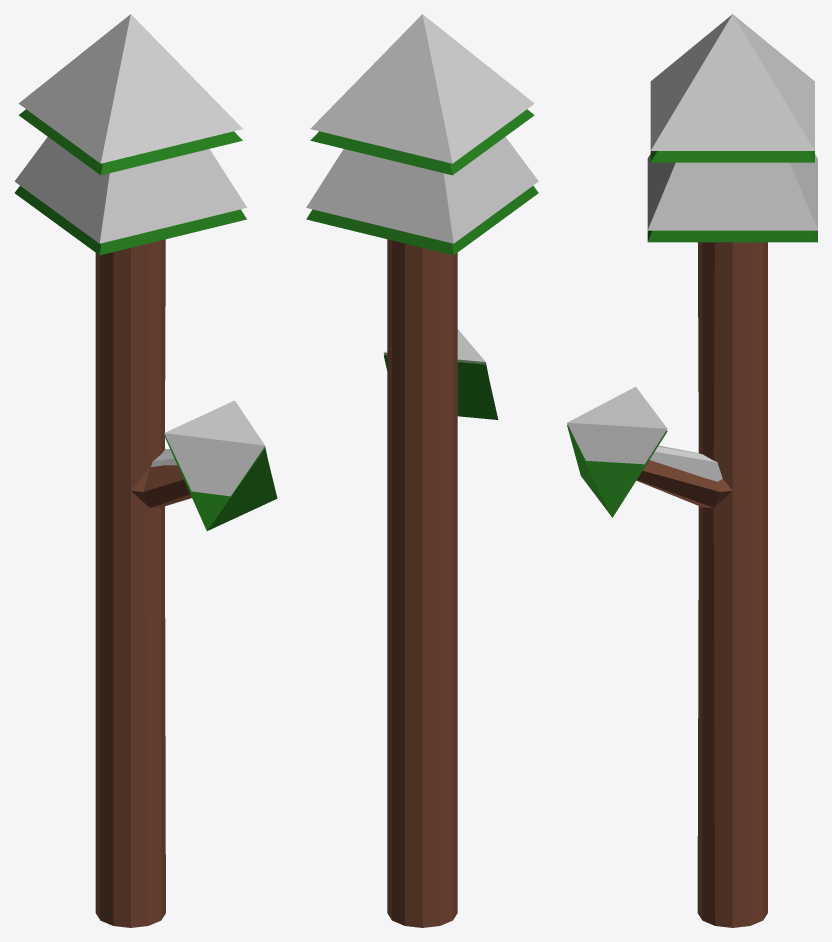
The model's file is Tree_25_winter_vc.fbx.
3 views of the same model, side by side, from view 1: azimuth 30°, elevation 25°; view 2: azimuth 150°, elevation 25°; view 3: azimuth 270°, elevation 25° (orthographic).
Visible parts, largest first — view 1: Tree_25_winter_vc; view 2: Tree_25_winter_vc; view 3: Tree_25_winter_vc.
Part boxes in pixels (x1,y1,x2,y2): Tree_25_winter_vc: [14, 14, 277, 927]; Tree_25_winter_vc: [306, 14, 538, 927]; Tree_25_winter_vc: [567, 14, 817, 927].
Bounding box in the file's own units: 58.32 × 312 × 79.03.
